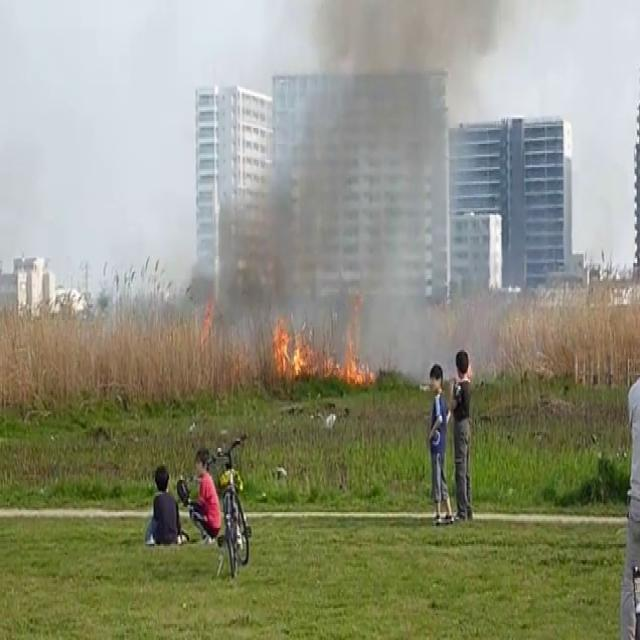Fire: (320, 319, 376, 381), (268, 303, 308, 385)
Smoke: (233, 0, 471, 373)
